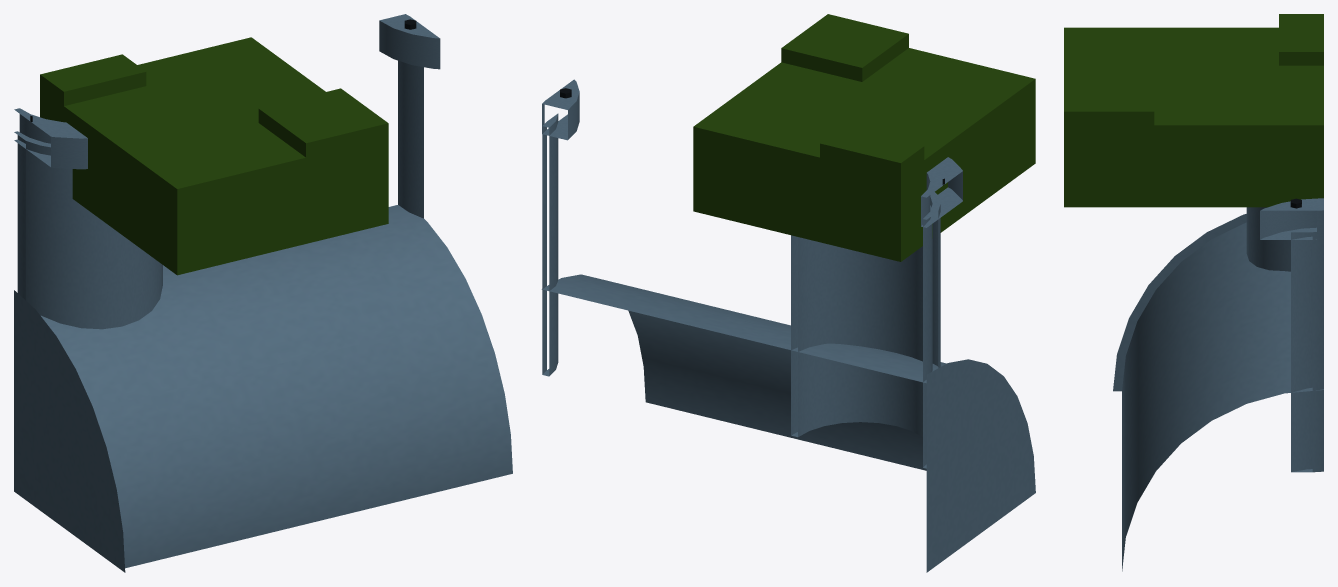
File: cell_19.obj
The picture shows the model from 3 angles, left to right: view 1: azimuth 30°, elevation 25°; view 2: azimuth 150°, elevation 25°; view 3: azimuth 270°, elevation 25°; orthographic projection. The views are drawn at different scales.
Visible parts, largest first — view 1: cell_19; view 2: cell_19; view 3: cell_19.
Boxes of the visible parts, x1,y1,x2,y2 form: cell_19: (14, 14, 512, 572); cell_19: (541, 14, 1035, 572); cell_19: (1064, 14, 1323, 571).
Size of the model in its own units: 1 by 1 by 0.605.
